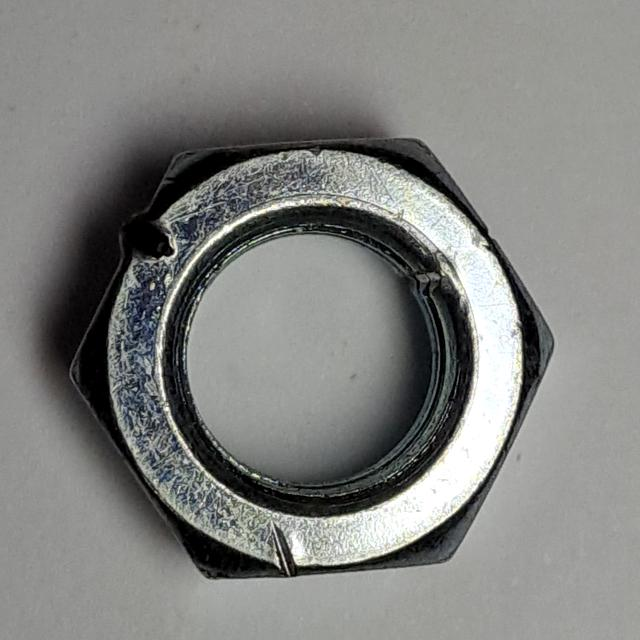Scratches: (49, 113, 567, 595)
